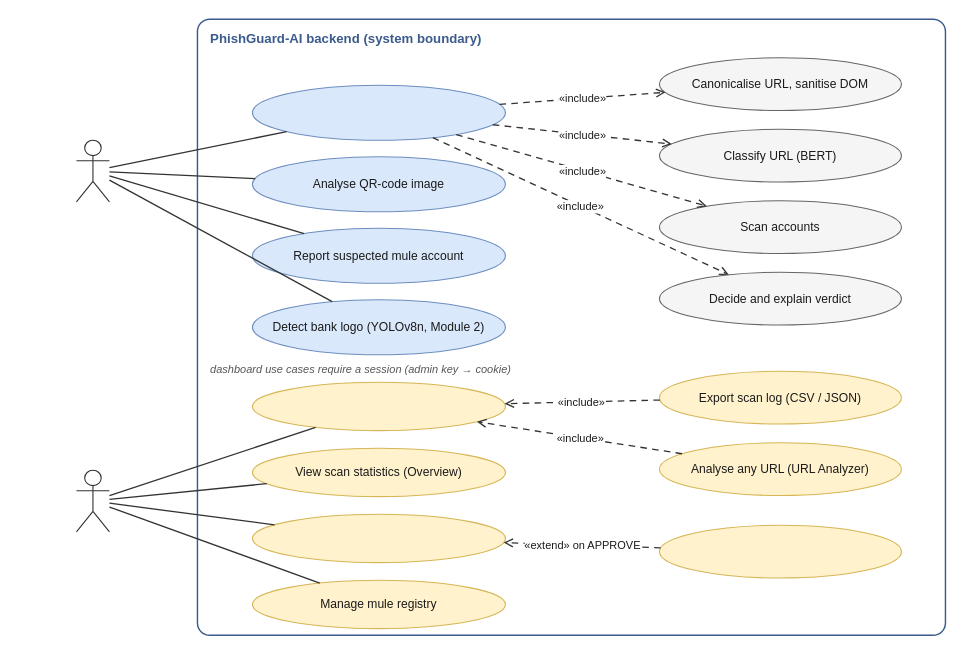
Image size: 966x656. Some labels were removed from this diagram. The shapes that lost their labels are listed below. From the top down, each one's box as (x1, y1, x2, y2) in pixels, then its label:
(251, 84, 505, 140): Analyse web page
(75, 139, 109, 202): End user (via extension)
(251, 381, 505, 431): Sign in to dashboard
(75, 469, 109, 532): SOC analyst / administrator
(251, 513, 505, 563): Review mule reports
(658, 524, 901, 578): Promote report to registry
